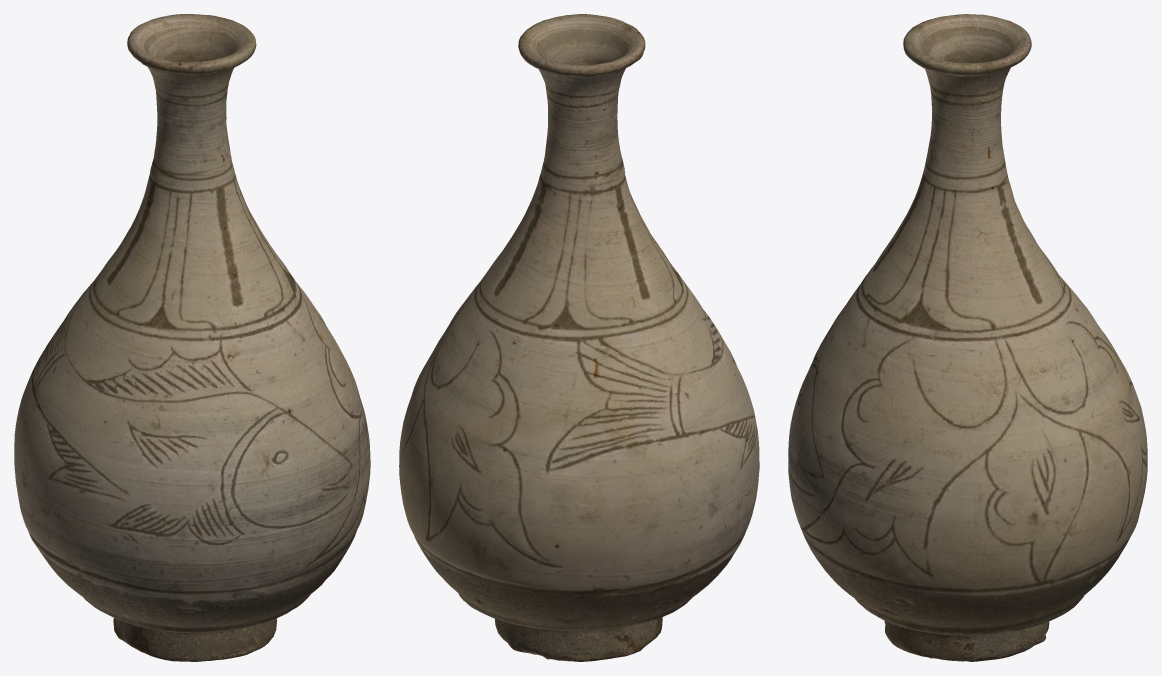
The model's file is preview.glb.
3 renders of one model, left to right at view 1: azimuth 30°, elevation 25°; view 2: azimuth 150°, elevation 25°; view 3: azimuth 270°, elevation 25°, orthographic.
Visible parts, largest first — view 1: Object_2; view 2: Object_2; view 3: Object_2.
Part boxes in pixels (x1,y1,x2,y2): Object_2: (14, 14, 370, 661); Object_2: (399, 14, 759, 661); Object_2: (788, 14, 1147, 661).
Size of the model in its own units: 0.1677 by 0.3066 by 0.1691.
Materials: 1 (1 with a texture image).
